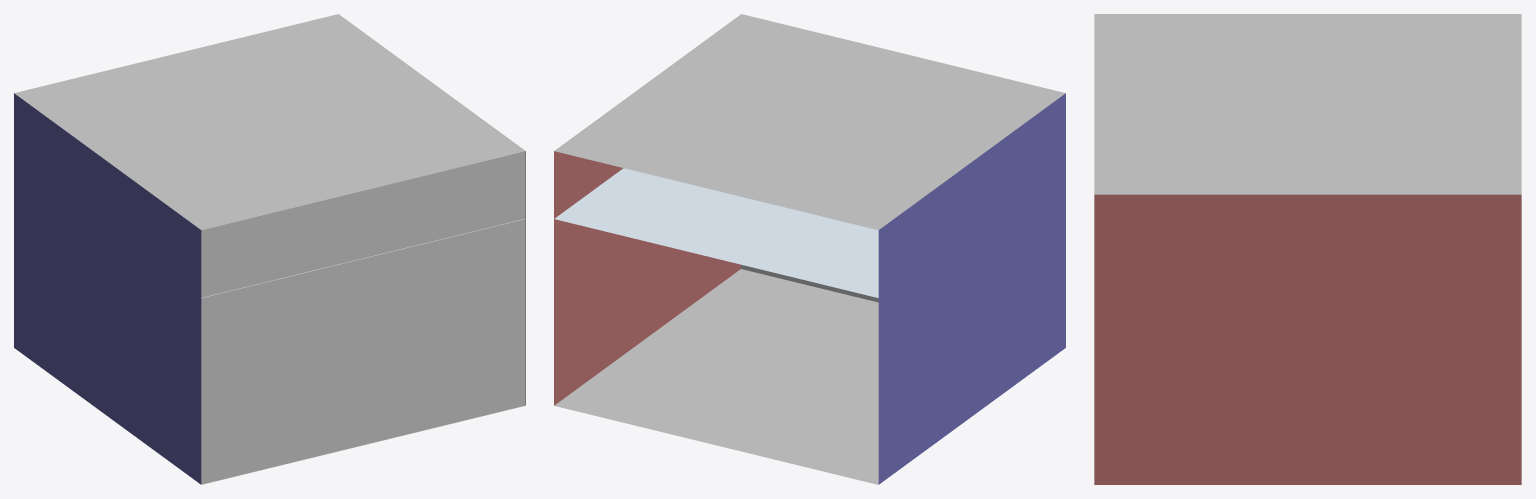
Rendered from CBspheres_underwater_pebbles.dae.
The picture shows the model from 3 angles, left to right: view 1: azimuth 30°, elevation 25°; view 2: azimuth 150°, elevation 25°; view 3: azimuth 270°, elevation 25°; orthographic projection. The views are drawn at different scales.
Visible parts, largest first — view 1: backWall, ceiling, rightWall; view 2: ceiling, rightWall, floor, leftWall, water, backWall; view 3: leftWall, ceiling.
Part boxes in pixels (left/top/right/bottom): backWall: left=201, top=151, right=525, bottom=484; ceiling: left=14, top=14, right=525, bottom=230; rightWall: left=14, top=93, right=201, bottom=484; ceiling: left=554, top=14, right=1065, bottom=230; rightWall: left=878, top=93, right=1065, bottom=484; floor: left=554, top=269, right=878, bottom=484; leftWall: left=554, top=151, right=740, bottom=405; water: left=554, top=168, right=878, bottom=297; backWall: left=741, top=264, right=878, bottom=302; leftWall: left=1094, top=194, right=1521, bottom=484; ceiling: left=1094, top=14, right=1521, bottom=194.
Size of the model in its own units: 2 by 2 by 1.5.
